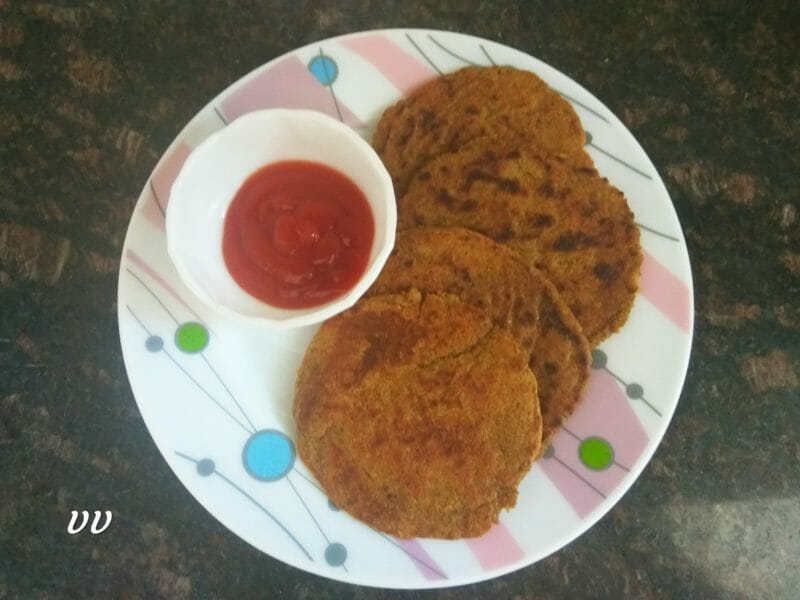aloo_paratha: (293, 65, 647, 545)
